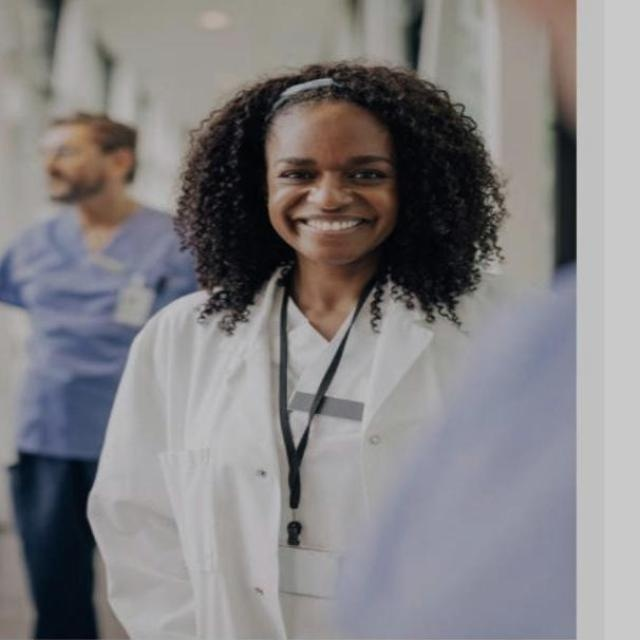ID_card: (275, 308, 337, 566)
